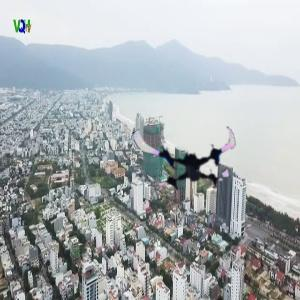drone: (142, 108, 243, 209)
